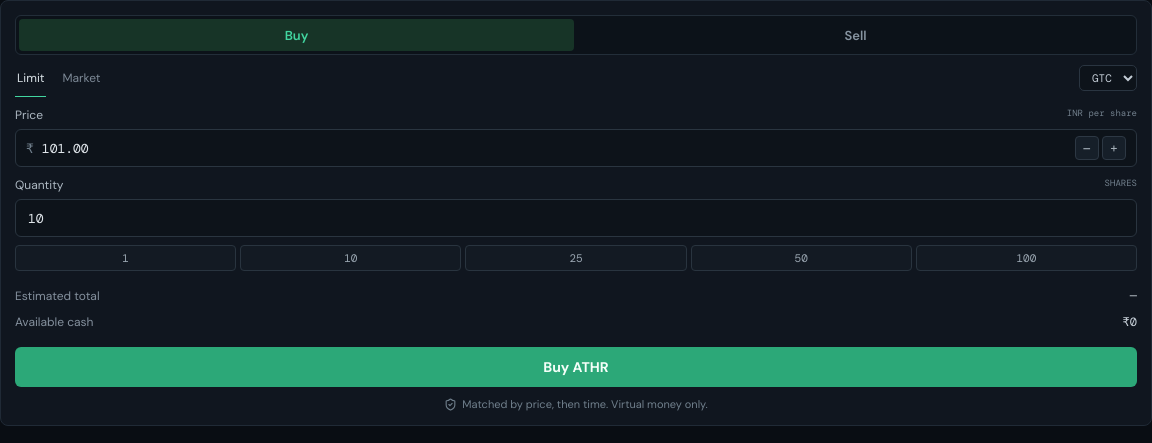
Test: OrderForm › hides the price for market orders and shows the time in force for limits
The image size is (1152, 443).
Expected: the dropdown shows "GTC", 1079,65 -> 1137,91
Click the button "Market" at (82, 78), box 60,59 -> 102,97
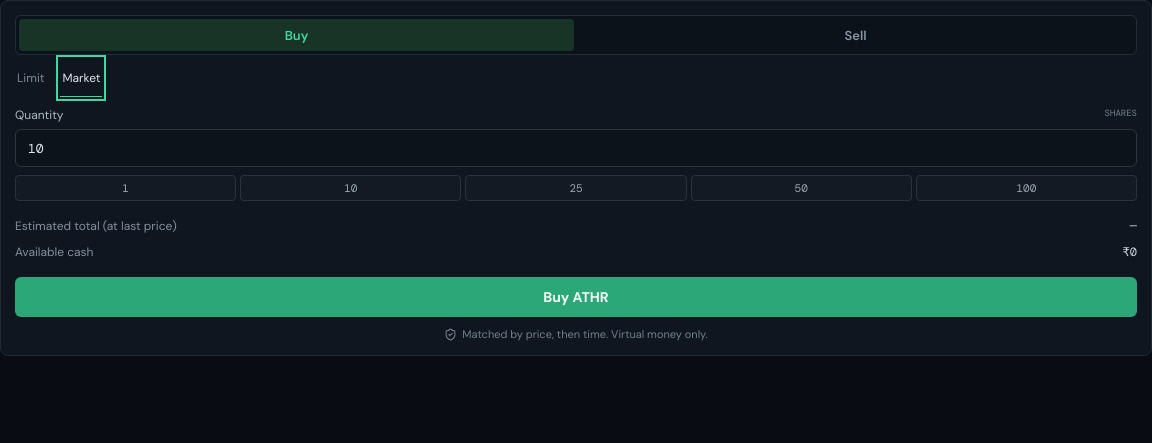
Now the dropdown is gone
